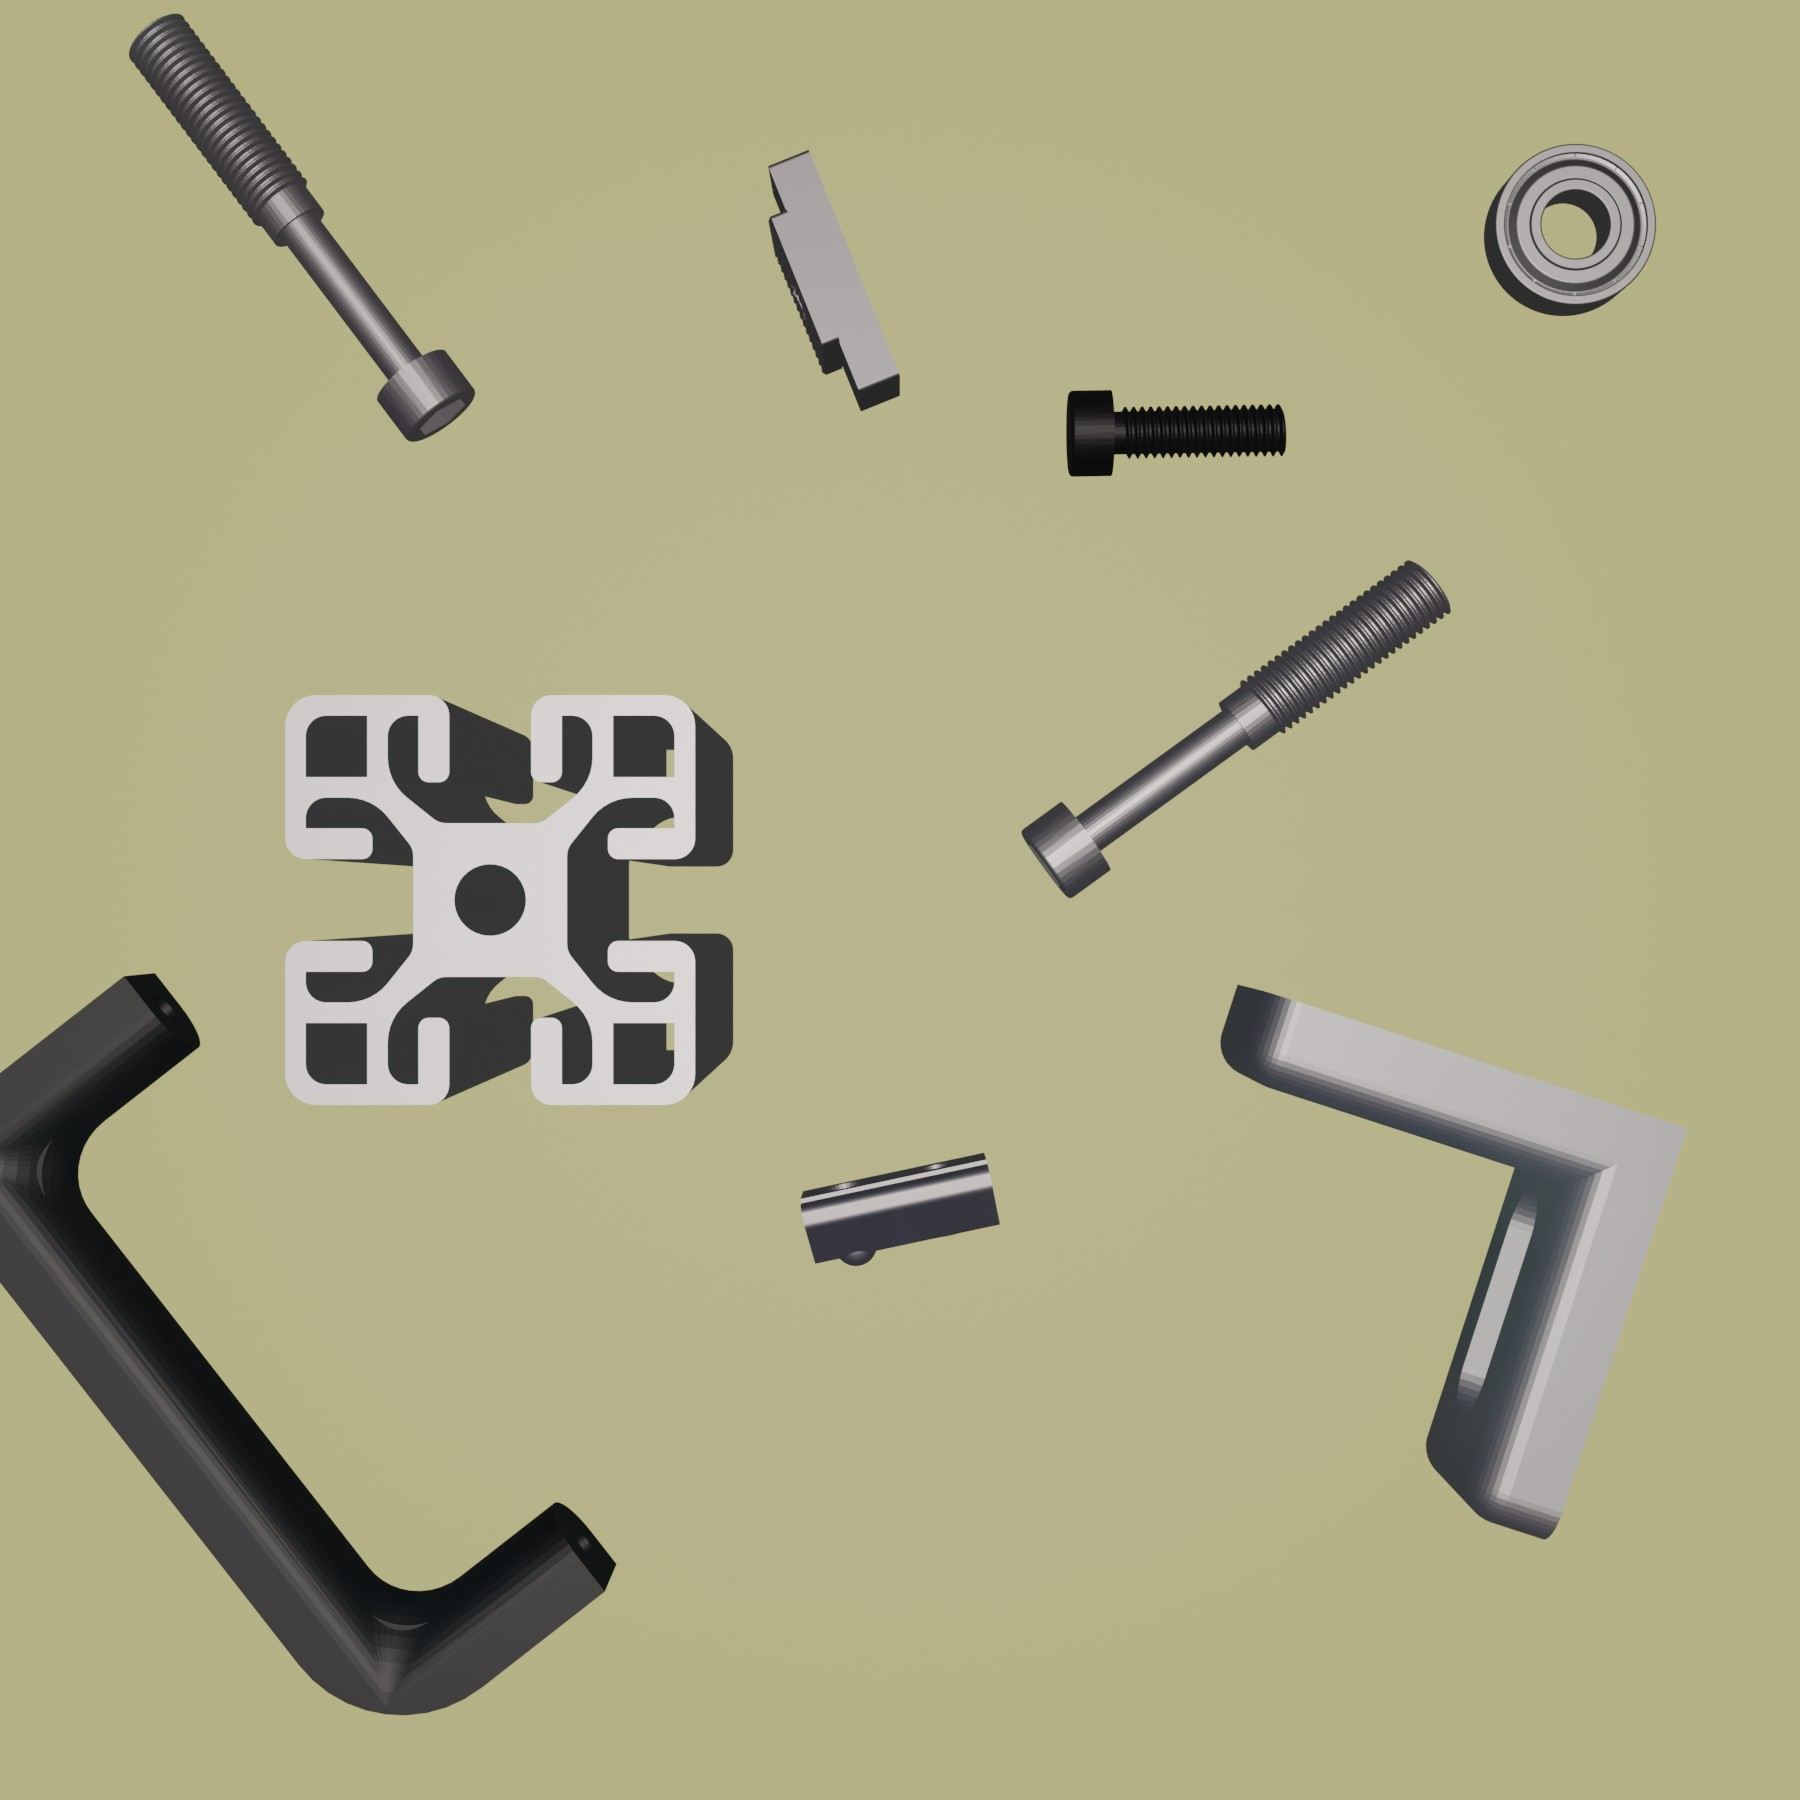Aluminium Extension: (279, 692, 737, 1109)
Ball Bearing: (1479, 138, 1658, 320)
Multiwinkel: (1215, 982, 1690, 1543)
Pull Handle: (2, 969, 616, 1719)
Shoulder Socket Head Cap Screw: (127, 7, 476, 445), (1017, 555, 1455, 903)
Socket Head Cap Screw: (1063, 384, 1291, 481)
T Nut Square: (762, 143, 903, 414)
T Spring Nut: (798, 1151, 1004, 1269)
